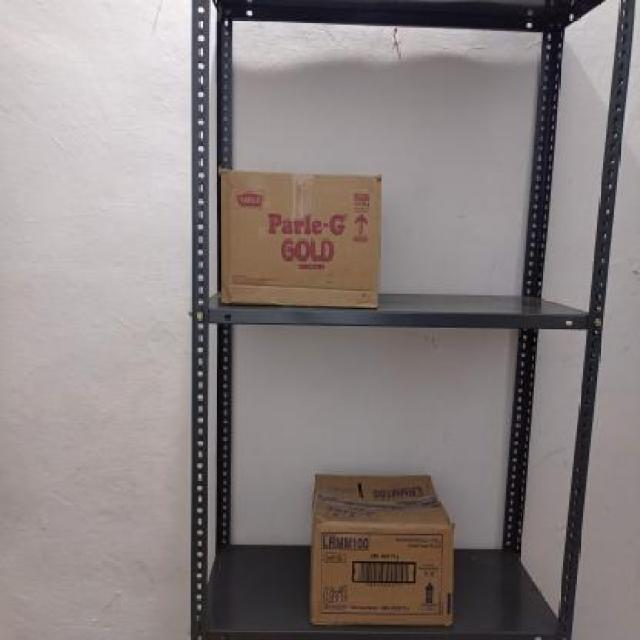box: (215, 166, 378, 309), (309, 514, 454, 626)
